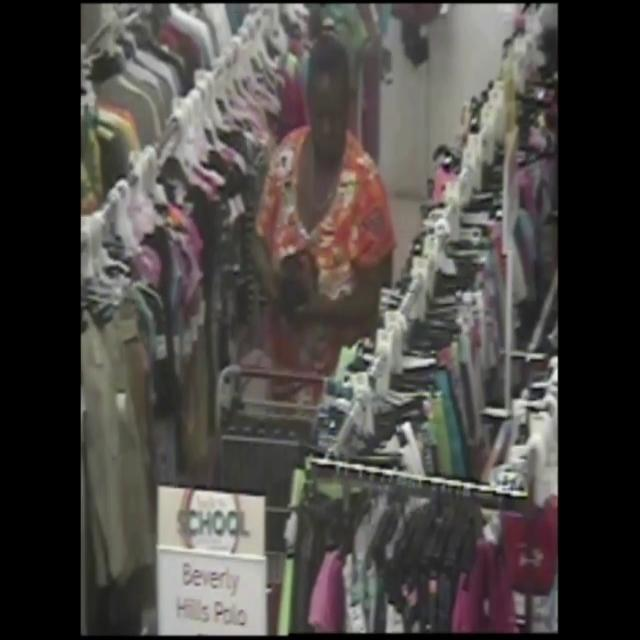Product: (273, 232, 323, 334)
shoplifting: (255, 3, 414, 375)
